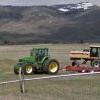Tractor: (11, 39, 63, 78)
